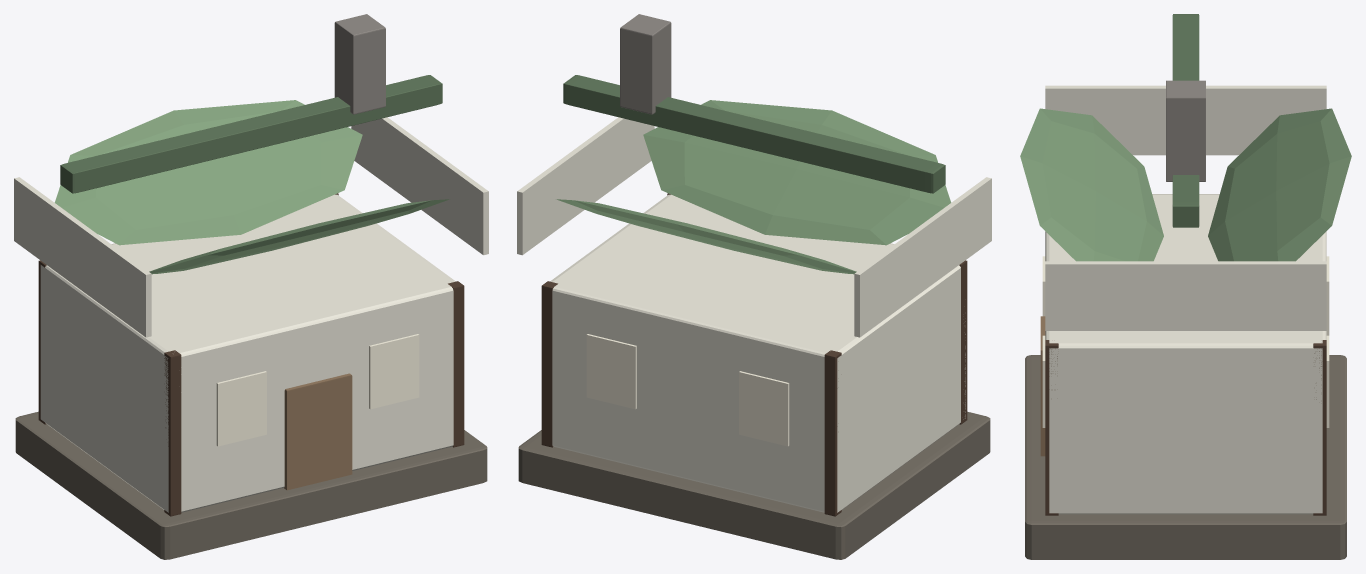
File: kominka_green.glb
The picture shows the model from 3 angles, left to right: view 1: azimuth 30°, elevation 25°; view 2: azimuth 150°, elevation 25°; view 3: azimuth 270°, elevation 25°; orthographic projection. The views are drawn at different scales.
Parts seen in each view (by area): view 1: kominka_green; view 2: kominka_green; view 3: kominka_green.
Part boxes in pixels (x1,y1,x2,y2): kominka_green: [14, 14, 488, 559]; kominka_green: [517, 14, 991, 559]; kominka_green: [1020, 14, 1351, 559].
Size of the model in its own units: 3.4 by 3.65 by 2.47.
